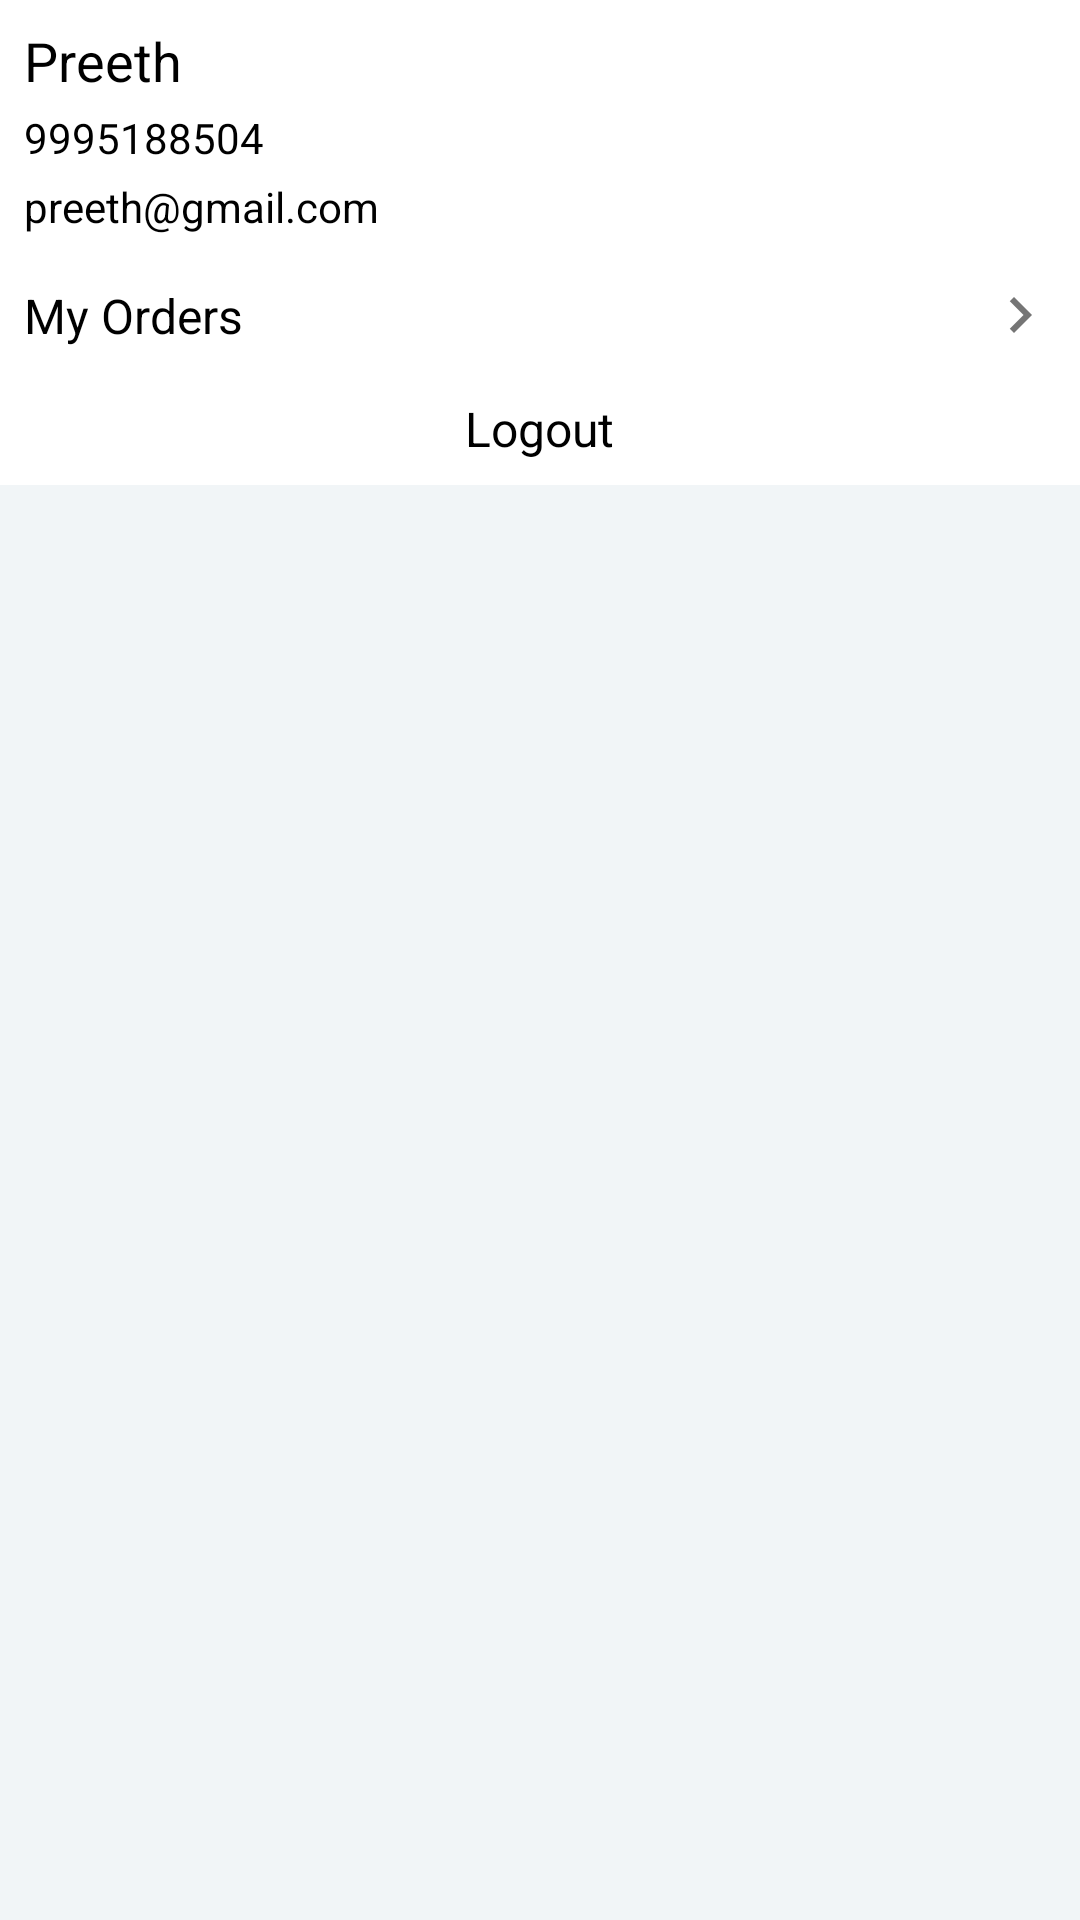

Screen size 1080 × 1920. Icon name, then its box in pixels as (x1, y1, x2, y2):
chevron right: (1010, 297, 1032, 333)
